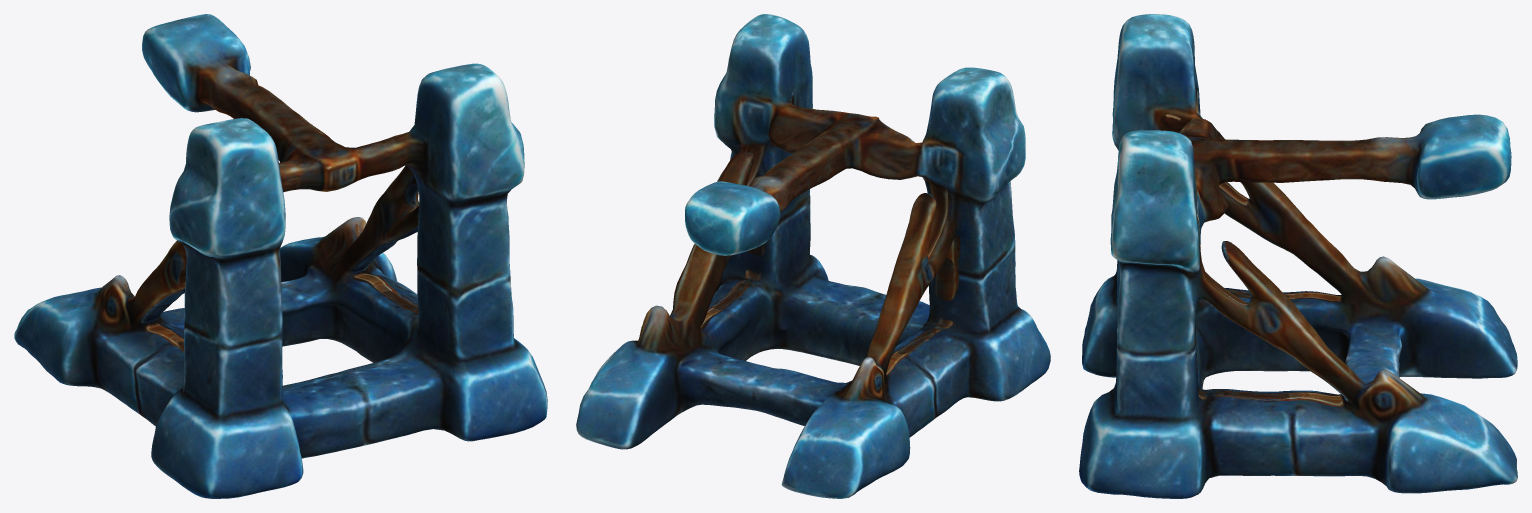
The model's file is ice-catapult.glb.
3 renders of one model, left to right at view 1: azimuth 30°, elevation 25°; view 2: azimuth 150°, elevation 25°; view 3: azimuth 270°, elevation 25°, orthographic. The views are drawn at different scales.
Parts seen in each view (by area): view 1: mesh; view 2: mesh; view 3: mesh.
Part boxes in pixels (x1=…): mesh: x1=14, y1=14, x2=547, y2=498; mesh: x1=576, y1=14, x2=1050, y2=498; mesh: x1=1079, y1=14, x2=1517, y2=498.
Bounding box in the file's own units: 0.9233 × 0.8534 × 0.9968.
Materials: 1 (1 with a texture image).
